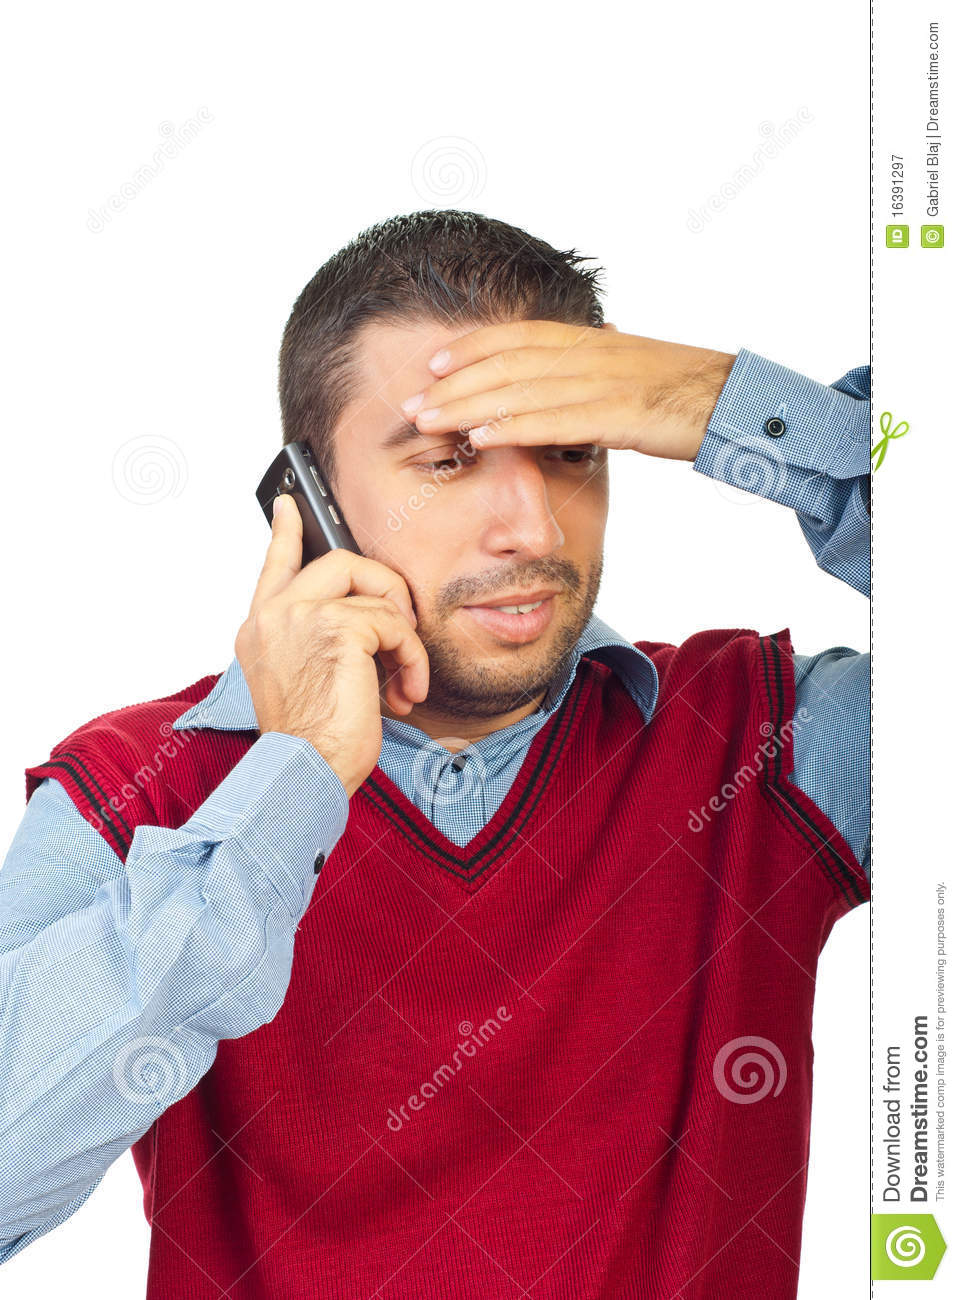phone: (261, 444, 363, 607)
talk: (237, 387, 607, 770)
